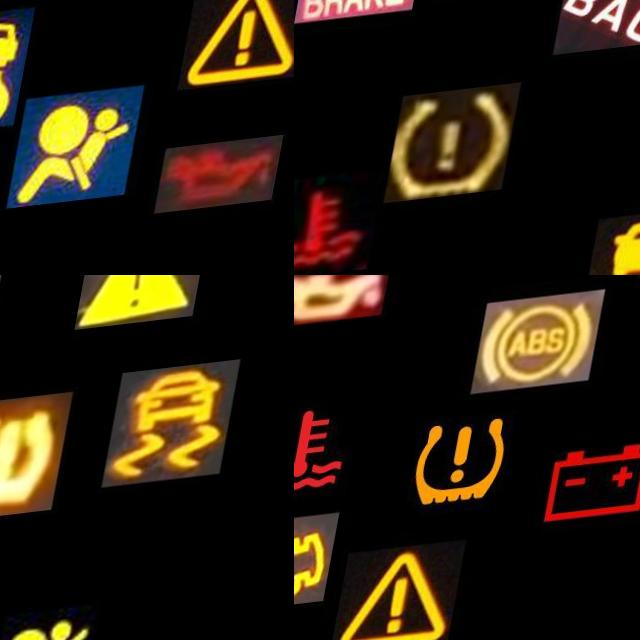Central Warning lamp: (349, 549, 482, 640), (194, 0, 294, 100), (80, 275, 213, 341)
Engine cooling system: (294, 390, 381, 519), (294, 175, 396, 275)
